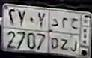0: (27, 11, 35, 51)
2: (6, 8, 17, 49)
7: (36, 11, 47, 50), (17, 10, 25, 49)
D: (50, 16, 59, 50)
J: (70, 15, 78, 53)
Z: (60, 16, 69, 51)
